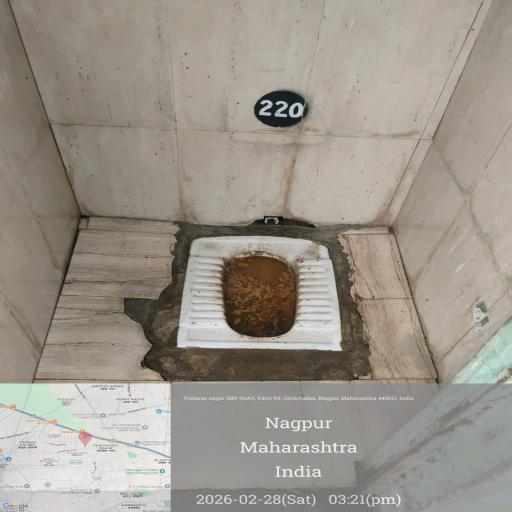dirty_floor: (26, 218, 154, 501)
dirty_indian: (130, 197, 418, 414)
partial_dirty_floor: (26, 2, 502, 197)
